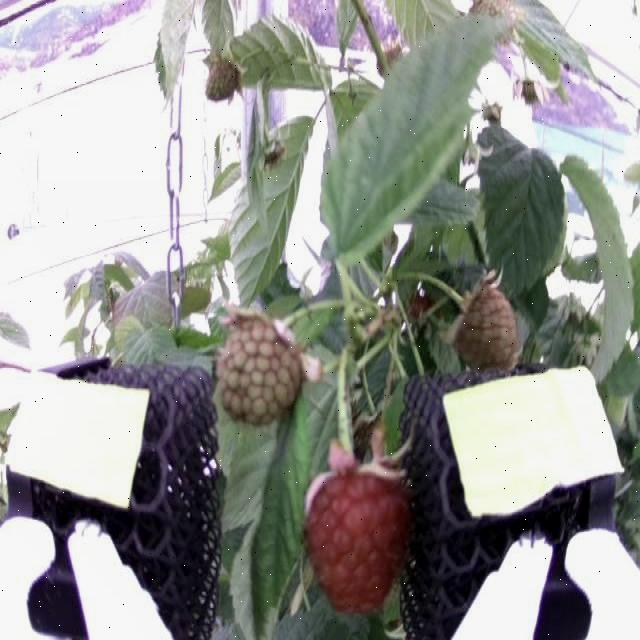Riped berries: (304, 446, 411, 608)
